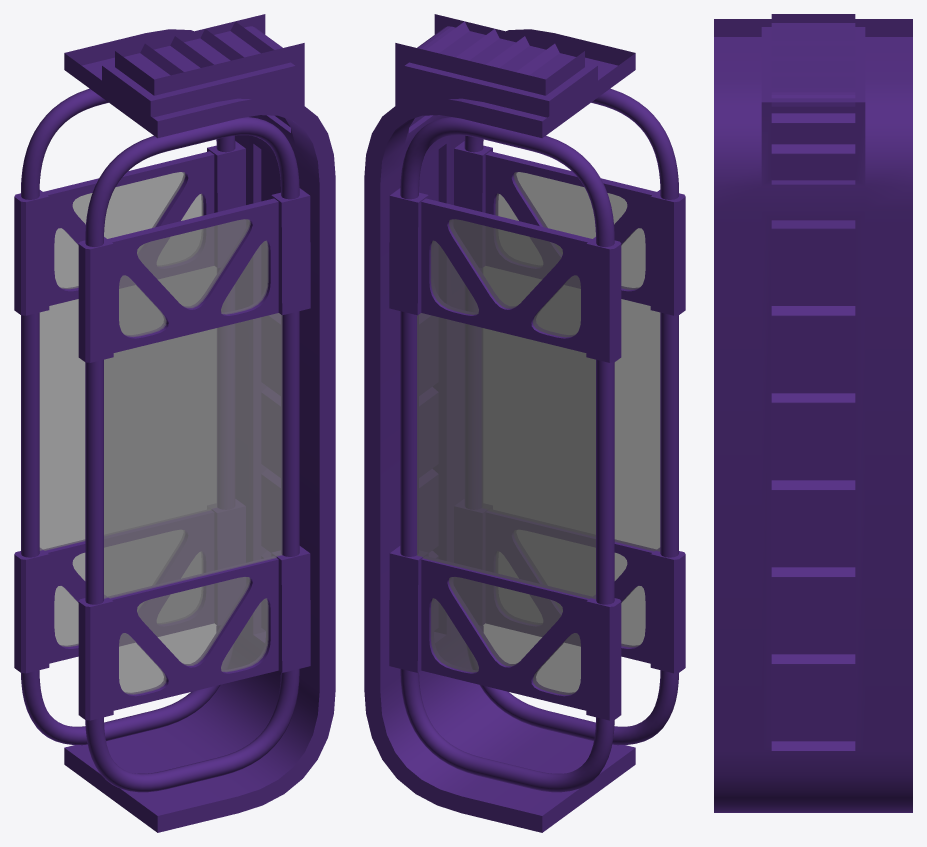
The model's file is Wall_C_4x1m.FBX.
3 renders of one model, left to right at view 1: azimuth 30°, elevation 25°; view 2: azimuth 150°, elevation 25°; view 3: azimuth 270°, elevation 25°, orthographic. The views are drawn at different scales.
Parts seen in each view (by area): view 1: Wall_C_4x1m; view 2: Wall_C_4x1m; view 3: Wall_C_4x1m.
Part boxes in pixels (x1=…): Wall_C_4x1m: x1=14, y1=14, x2=335, y2=832; Wall_C_4x1m: x1=364, y1=14, x2=685, y2=832; Wall_C_4x1m: x1=714, y1=14, x2=912, y2=812.
Bounding box in the file's own units: 148 × 430 × 100.
